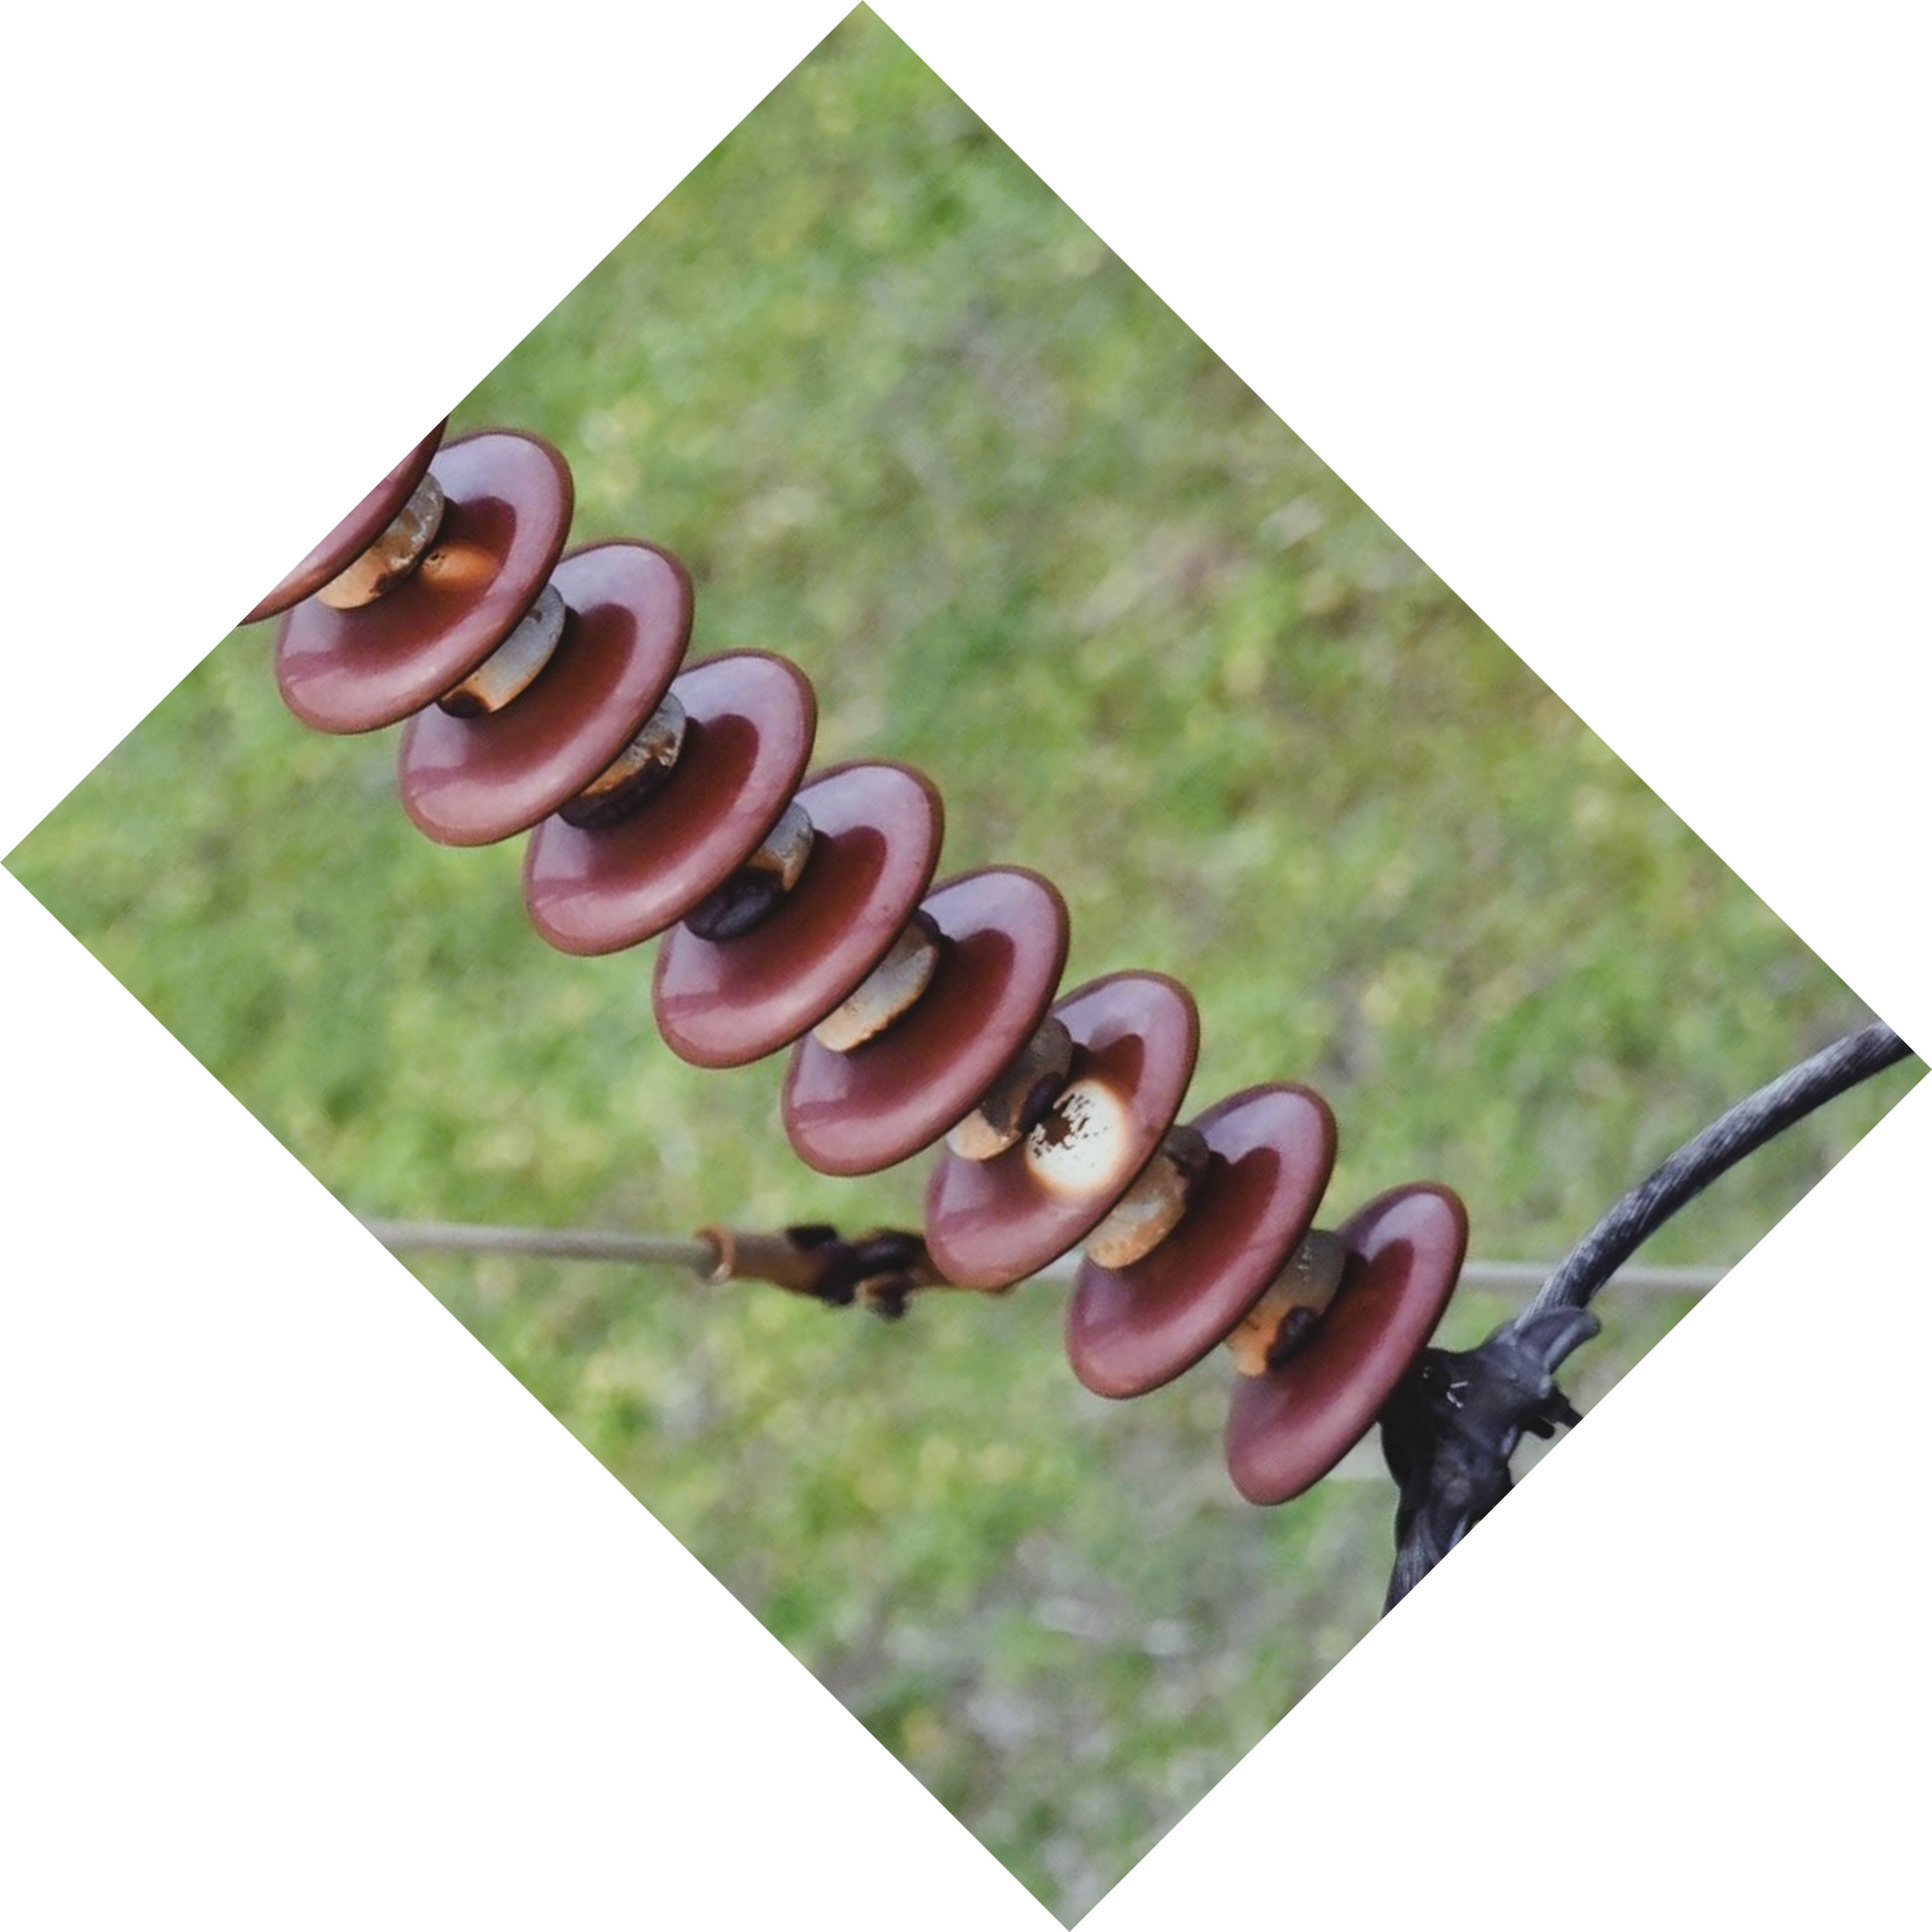Insulator flashover: (897, 961, 1212, 1300)
